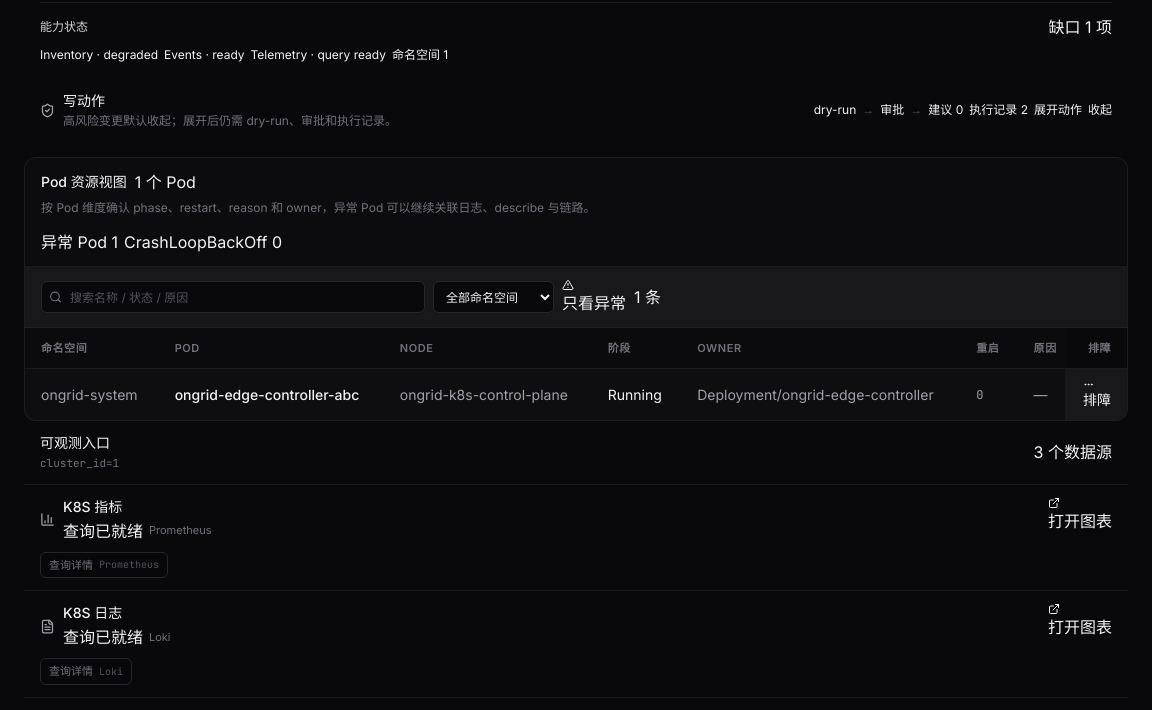
Scenario: KubernetesPage › Pod 资源搜索防抖后再请求服务端
The image size is (1152, 710).
(page scrolled)
Check: the text "ongrid-edge-controller-abc" is shown, box [159,368,384,420]
Type "api" into the field named "搜索资源" at point(233, 297), box [41,281,425,313]
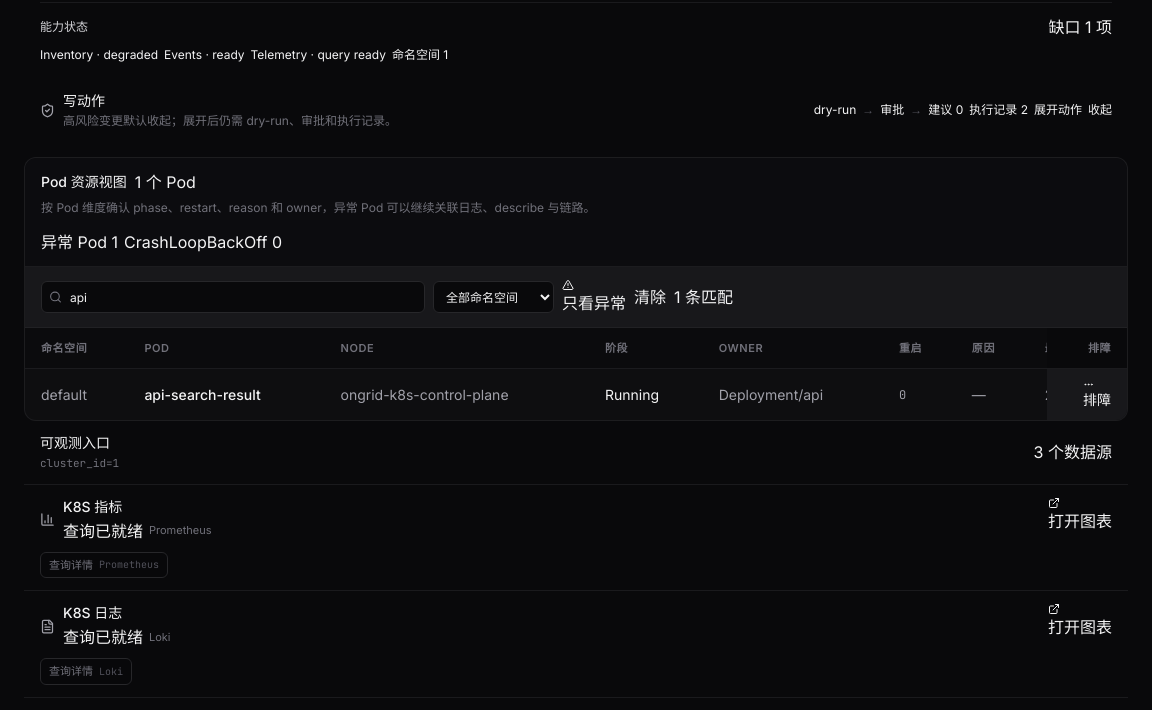
Check: the text "ongrid-edge-controller-abc" is gone
Check: the text "api-search-result" is shown, box [128,368,325,420]
Check: the text "1 条匹配" is shown, box [674,285,733,309]
